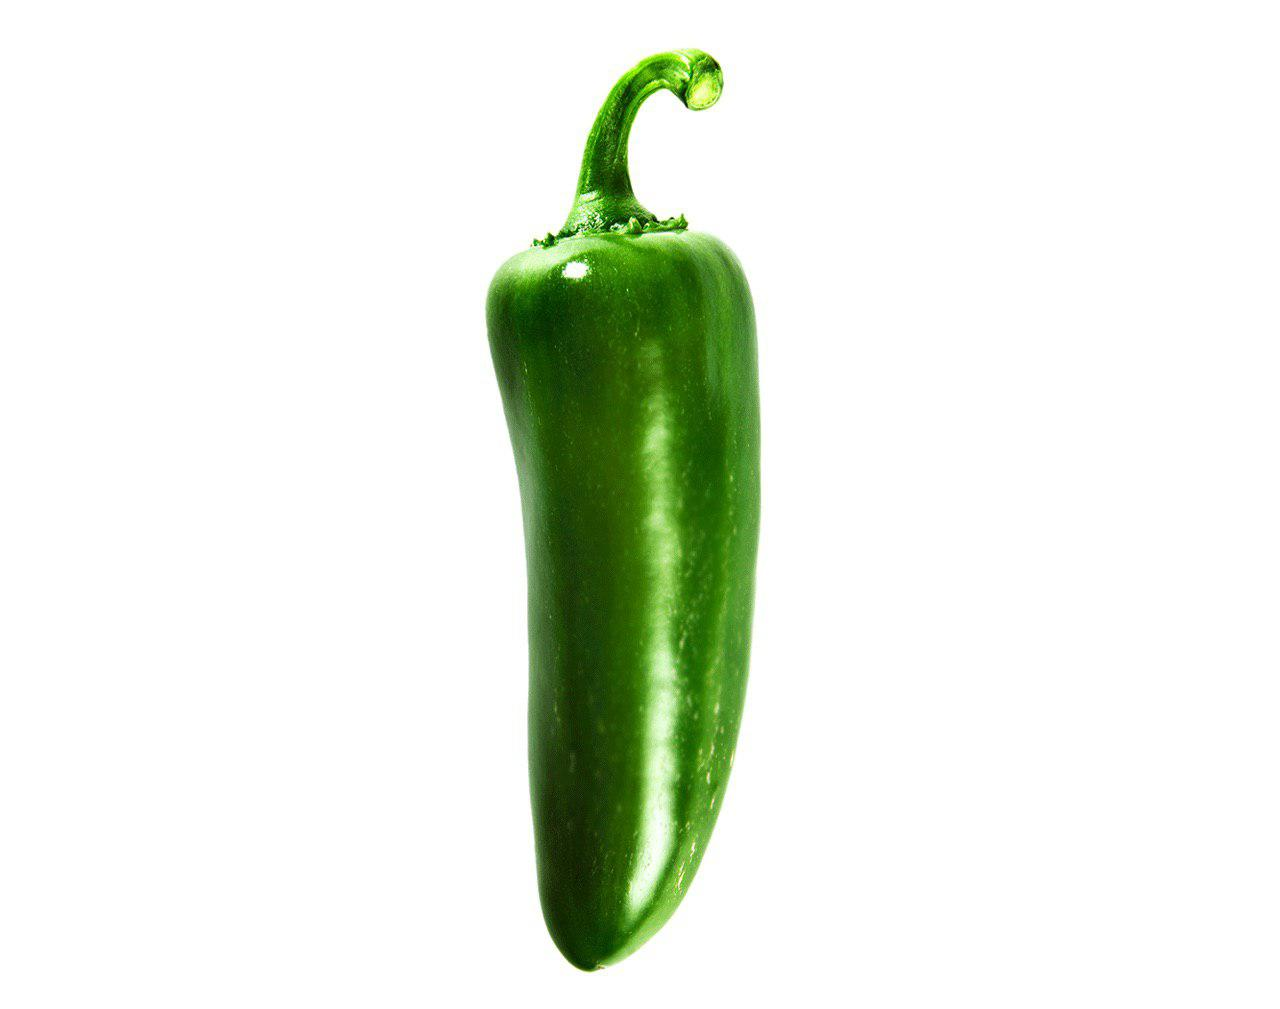lada hijau: (454, 200, 771, 986)
